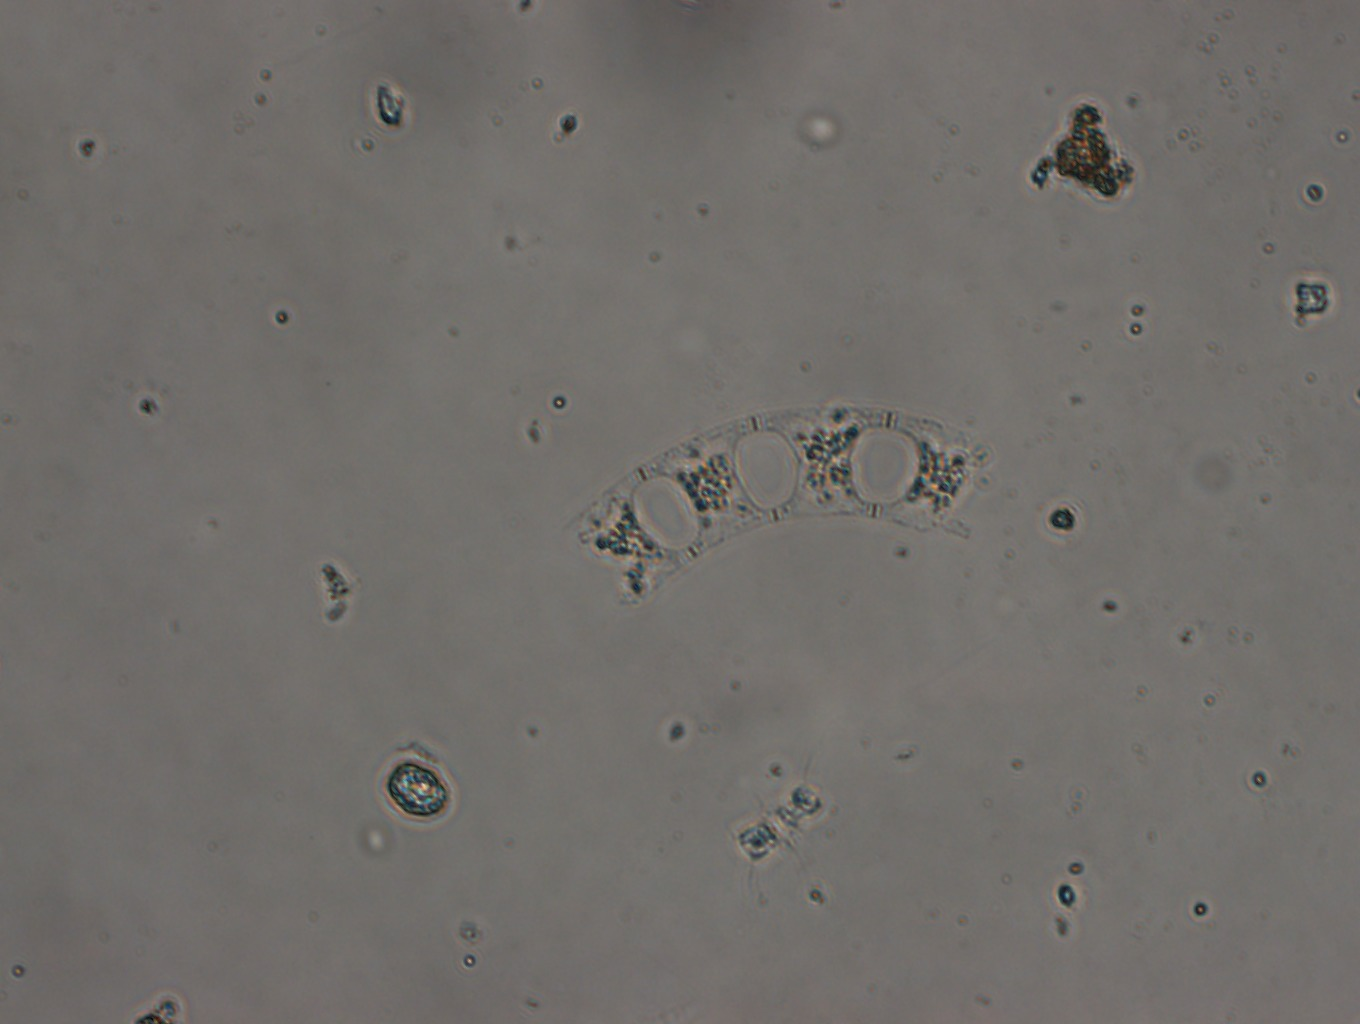eucampia: (556, 406, 1005, 614)
